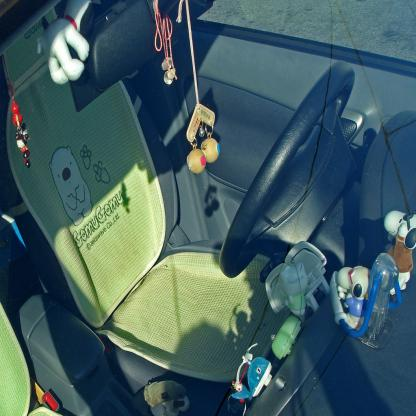Car: (17, 1, 411, 400)
